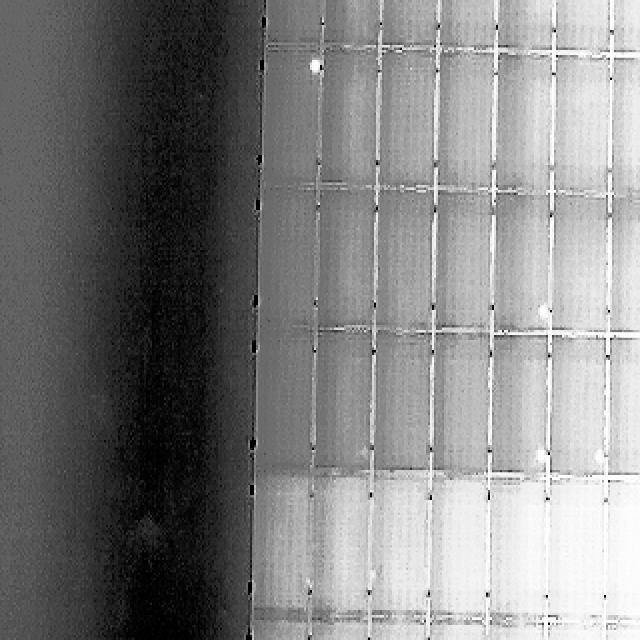Hotspots: (533, 298, 554, 327), (533, 442, 552, 471), (304, 55, 321, 78)
PV-modules: (544, 482, 606, 626), (374, 335, 436, 479), (371, 476, 433, 620), (306, 477, 368, 619), (257, 190, 319, 332), (310, 334, 370, 480), (430, 193, 492, 334), (377, 192, 438, 334), (429, 336, 489, 480), (324, 52, 385, 193), (547, 339, 607, 482), (255, 333, 314, 478), (322, 190, 382, 332), (380, 52, 440, 194), (428, 478, 487, 622), (432, 54, 493, 192), (492, 480, 550, 624), (498, 55, 557, 195), (550, 196, 608, 338), (252, 476, 310, 618), (261, 51, 319, 192), (495, 338, 552, 481), (497, 195, 554, 338), (552, 58, 610, 198), (600, 483, 640, 625), (610, 340, 640, 482), (612, 198, 640, 340), (612, 58, 640, 198), (549, 0, 609, 55), (494, 0, 554, 52), (437, 0, 497, 51), (322, 0, 384, 48), (377, 0, 438, 48), (262, 0, 322, 47), (608, 0, 640, 55), (250, 620, 308, 640), (302, 622, 366, 640), (424, 622, 484, 640), (368, 622, 428, 640), (542, 625, 602, 640), (488, 625, 548, 640), (598, 625, 640, 640)
